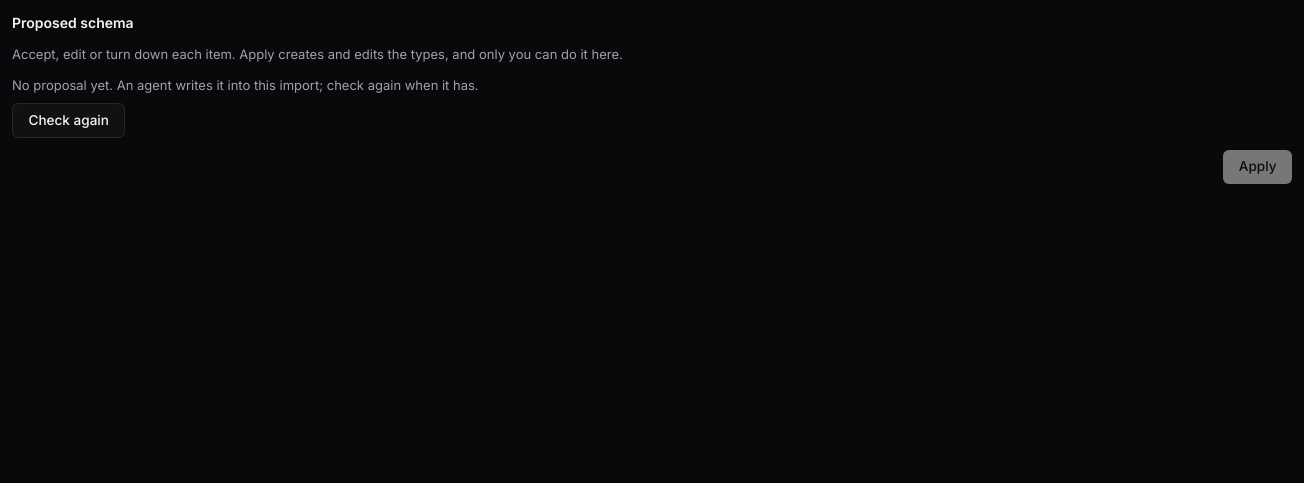
Test case: ProposalStep › a saved review is restored, and no proposal says so
Expected: the text "No proposal yet. An agent writes it into this import; check again when it has." is shown, [12,77,479,93]
Expected: the button "Apply" is disabled, [1223,150,1292,184]
Click the button "Check again" at (69, 120), box [12,103,125,138]
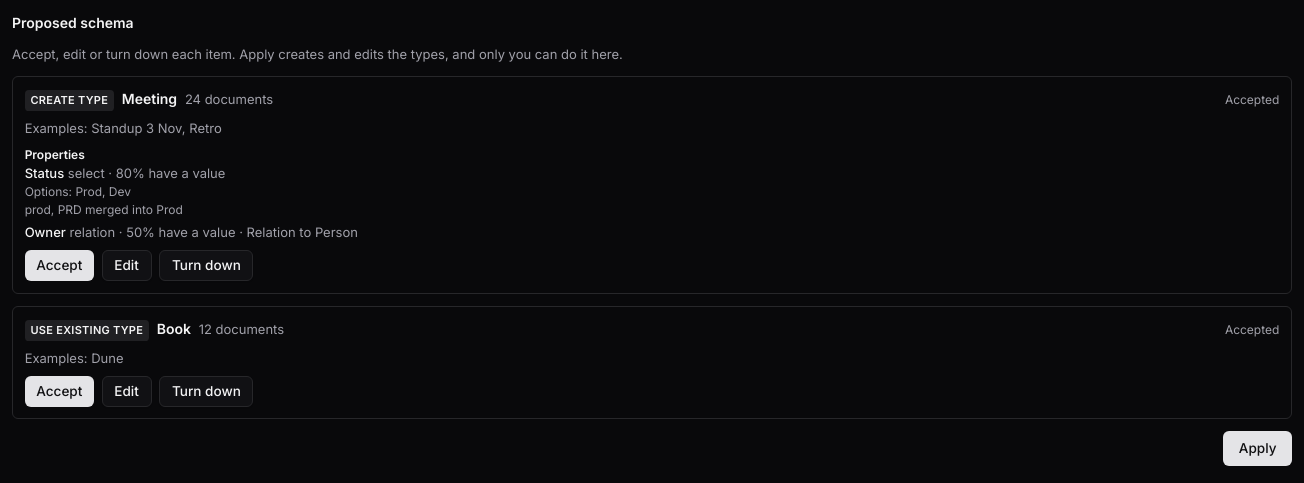
Now the button "Apply" is enabled, box [1223,431,1292,466]
